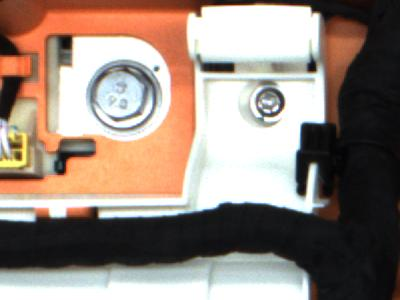nut_b: (77, 53, 174, 128)
screw_m: (236, 83, 290, 127)
